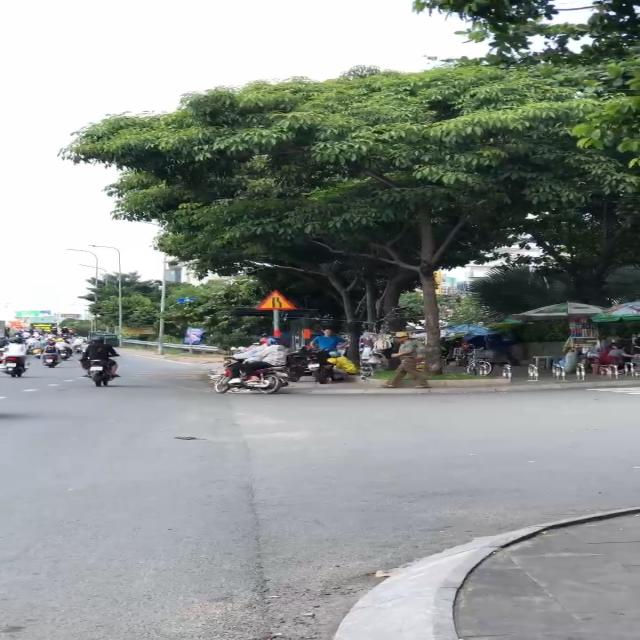Bien bao duong bi thu hep: (252, 288, 294, 312)
